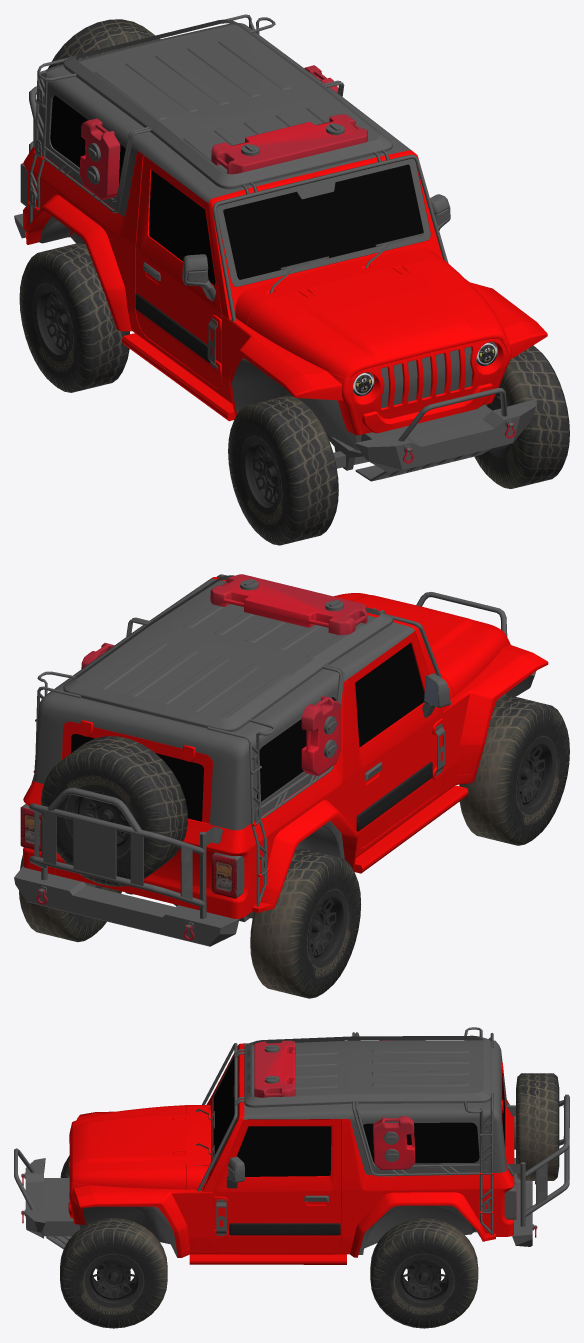
The model's file is thar.glb.
3 views of the same model, one above another, from view 1: azimuth 30°, elevation 25°; view 2: azimuth 150°, elevation 25°; view 3: azimuth 270°, elevation 25° (orthographic). The views are drawn at different scales.
Parts seen in each view (by area): view 1: main_body, bonnet, DOOR_FR, main_body_001, tyre__FR, tyre__RR, tyre__FL; view 2: main_body, DOOR_FR, tyre__RR, tyre__FR, bonnet, tyre__RL; view 3: main_body, DOOR_FL, tyre__RL, tyre__FL, bonnet, main_body_001.
Boxes of the visible parts, x1,y1,x2,y2 form: main_body: (14,14,547,481); bonnet: (247,260,506,378); DOOR_FR: (135,155,221,388); main_body_001: (223,164,423,279); tyre__FR: (228,395,338,545); tyre__RR: (19,243,129,392); tyre__FL: (474,345,569,488); main_body: (14,574,548,946); DOOR_FR: (348,631,450,847); tyre__RR: (250,848,360,998); tyre__FR: (459,695,569,845); bonnet: (334,593,507,696); tyre__RL: (19,855,121,942); main_body: (14,1027,569,1264); DOOR_FL: (213,1119,341,1250); tyre__RL: (370,1218,478,1328); tyre__FL: (60,1218,167,1328); bonnet: (71,1105,186,1189); main_body_001: (214,1057,236,1154).
Size of the model in its own units: 3.92 by 3.97 by 9.14.
4 materials, 1 textured.
